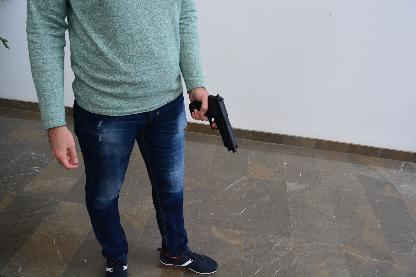pistol: (188, 94, 238, 152)
